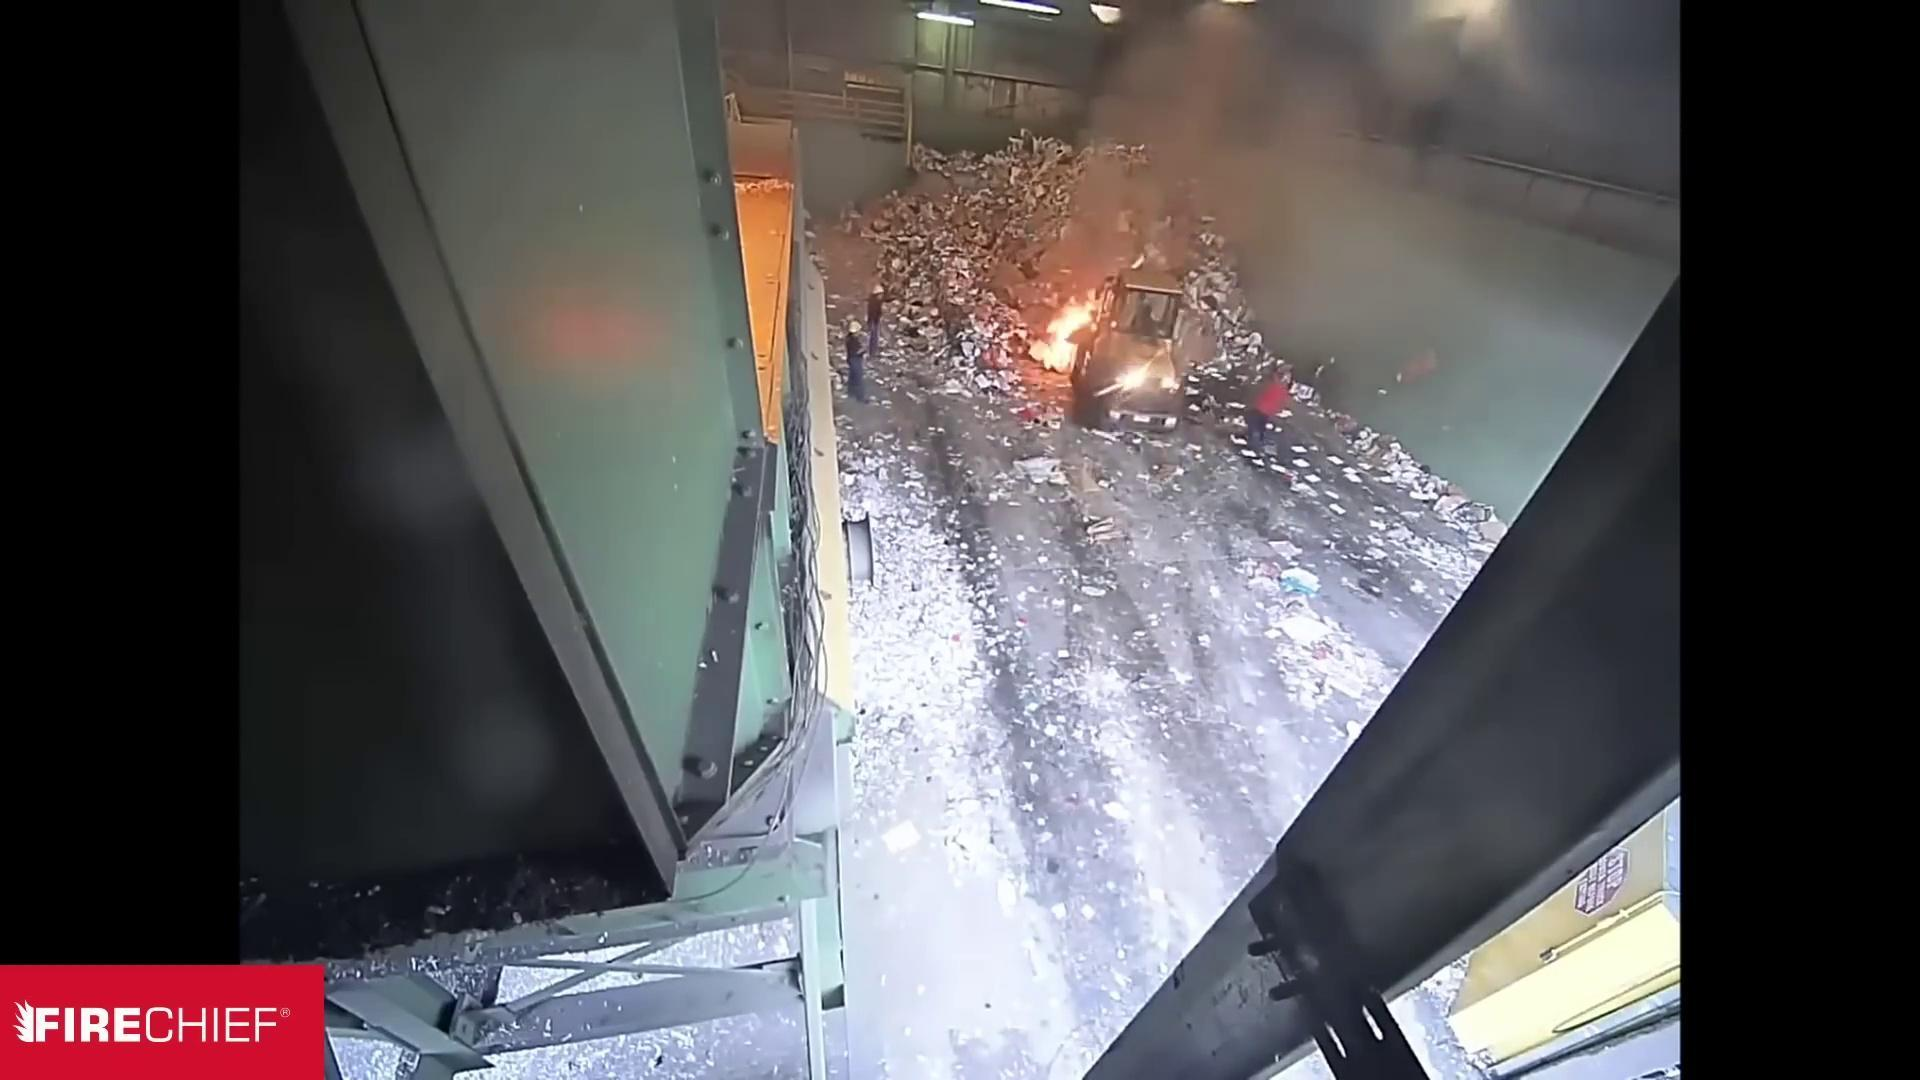fire: (986, 164, 1251, 442)
